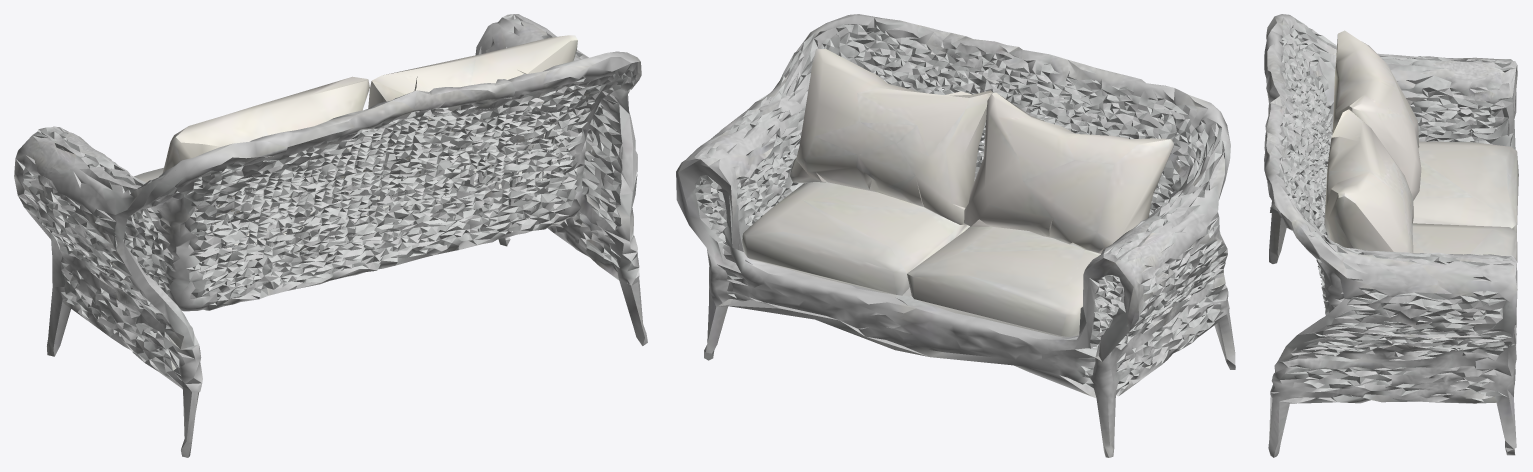
File: mj-wicker-settee.glb
3 renders of one model, left to right at view 1: azimuth 30°, elevation 25°; view 2: azimuth 150°, elevation 25°; view 3: azimuth 270°, elevation 25°, orthographic. The views are drawn at different scales.
Visible parts, largest first — view 1: mj-wicker-settee; view 2: mj-wicker-settee; view 3: mj-wicker-settee.
Part boxes in pixels (left/top/right/bottom): mj-wicker-settee: left=14, top=14, right=647, bottom=457; mj-wicker-settee: left=676, top=14, right=1235, bottom=457; mj-wicker-settee: left=1264, top=14, right=1518, bottom=457.
Size of the model in its own units: 1.55 by 0.86 by 0.7454.
1 material, 1 textured.
